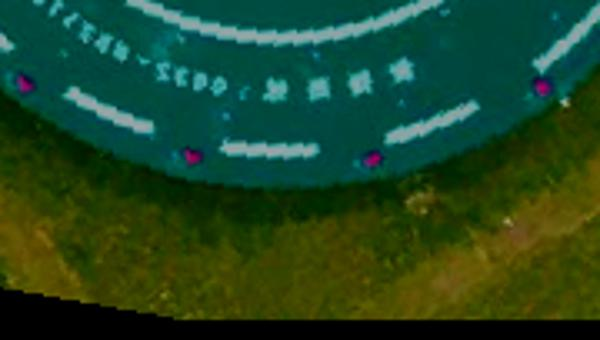Apron: (112, 7, 442, 58)
